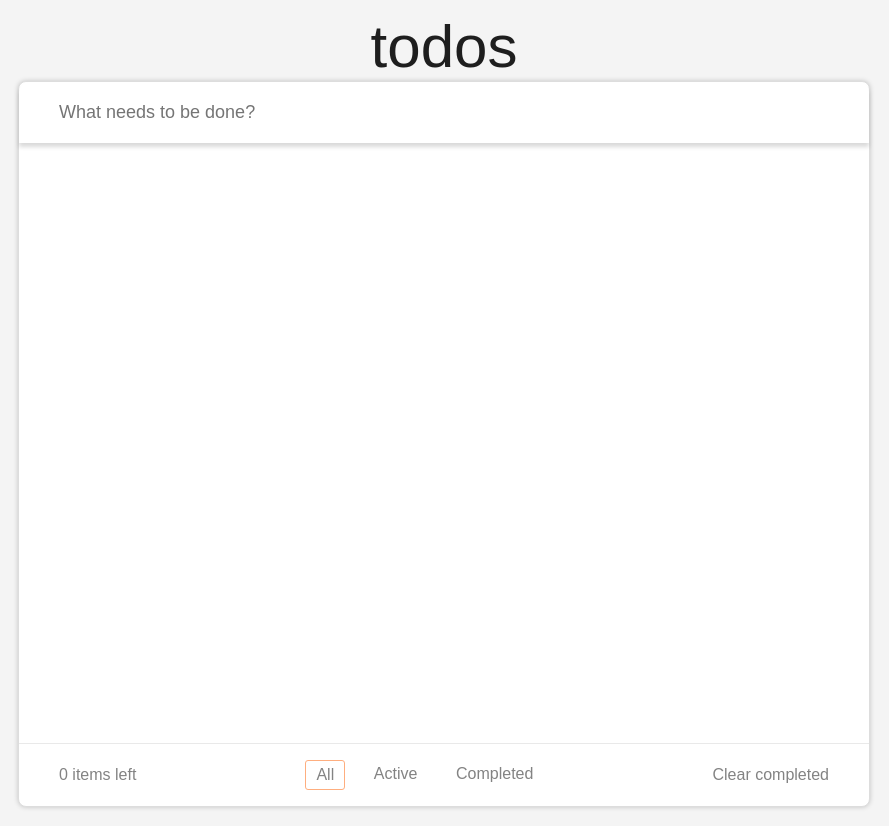
Test: TodoApp › Переключение фильтров
Type "Новая задача" into the field with placeholder "What needs to be done?" at point(444, 112), box [19,82,869,143]
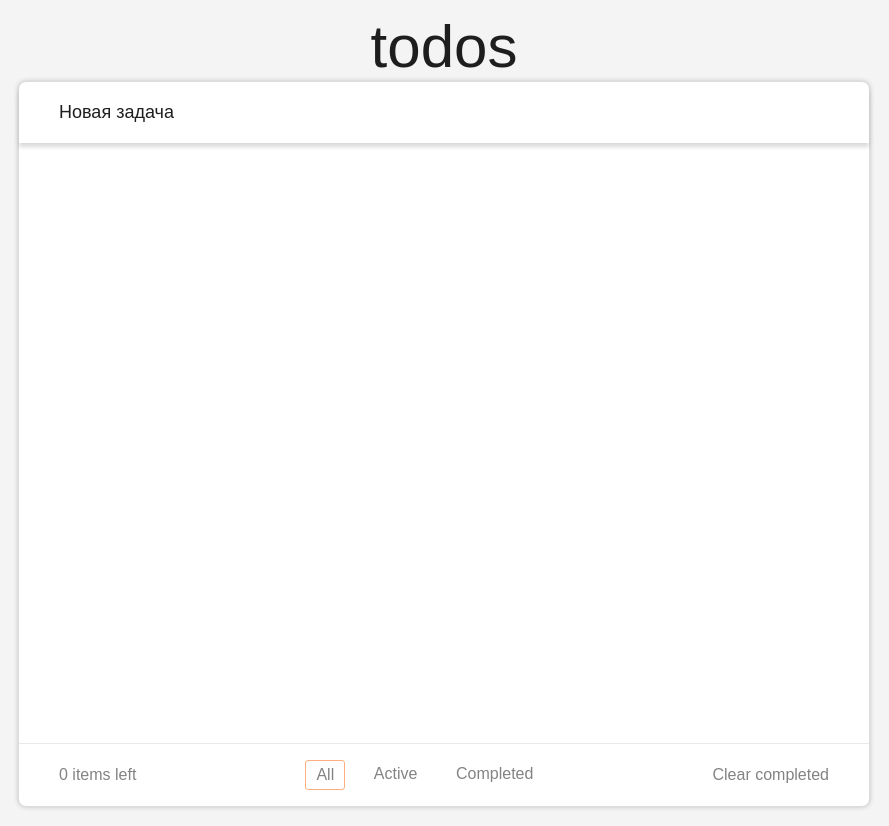
Press Enter in the field with placeholder "What needs to be done?", box [19,82,869,143]
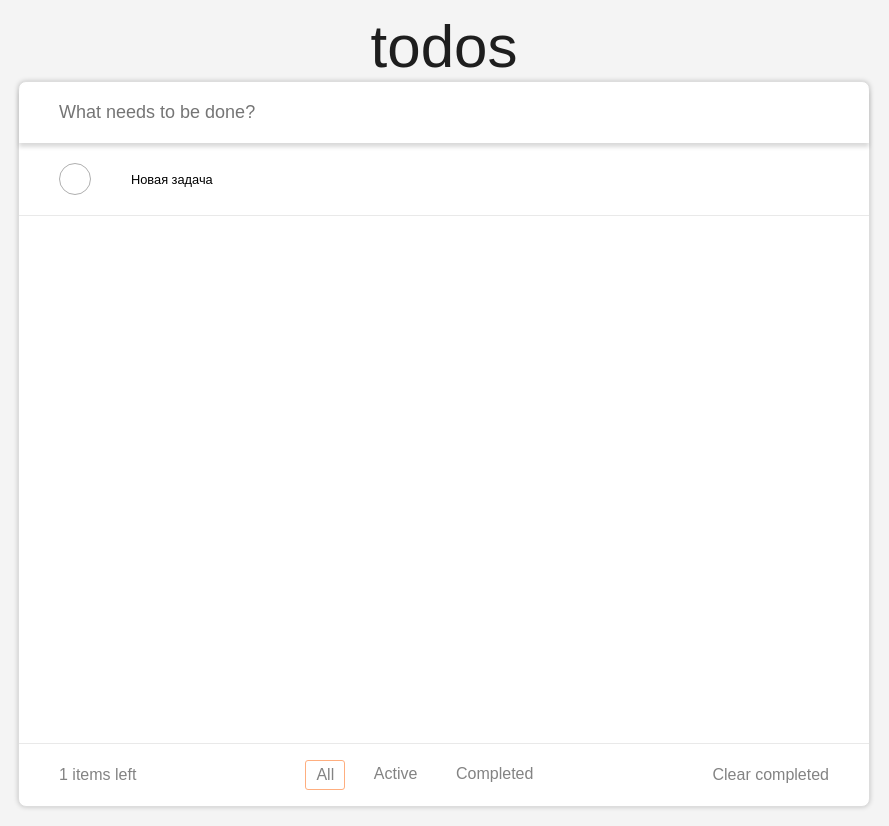
Expected: the text "Новая задача" is shown, [131,172,213,186]
Click the text "Active" at point(396, 774), box [374,765,417,782]
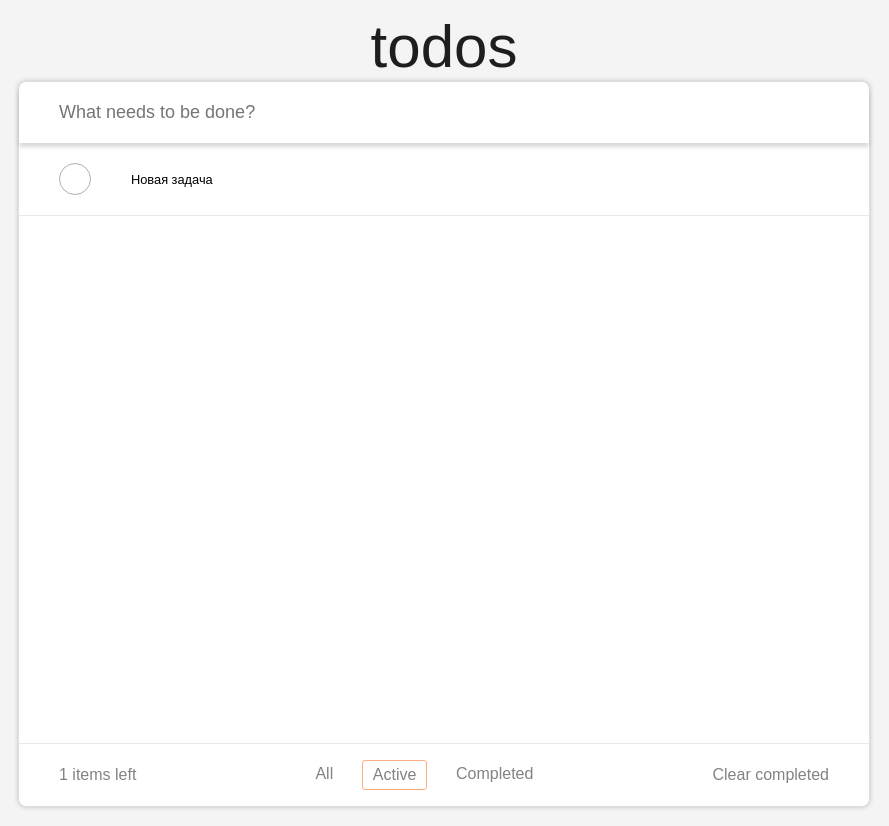
Expected: the text "Новая задача" is shown, [131,172,213,186]
Click the text "Completed" at point(495, 774), box [456,765,533,782]
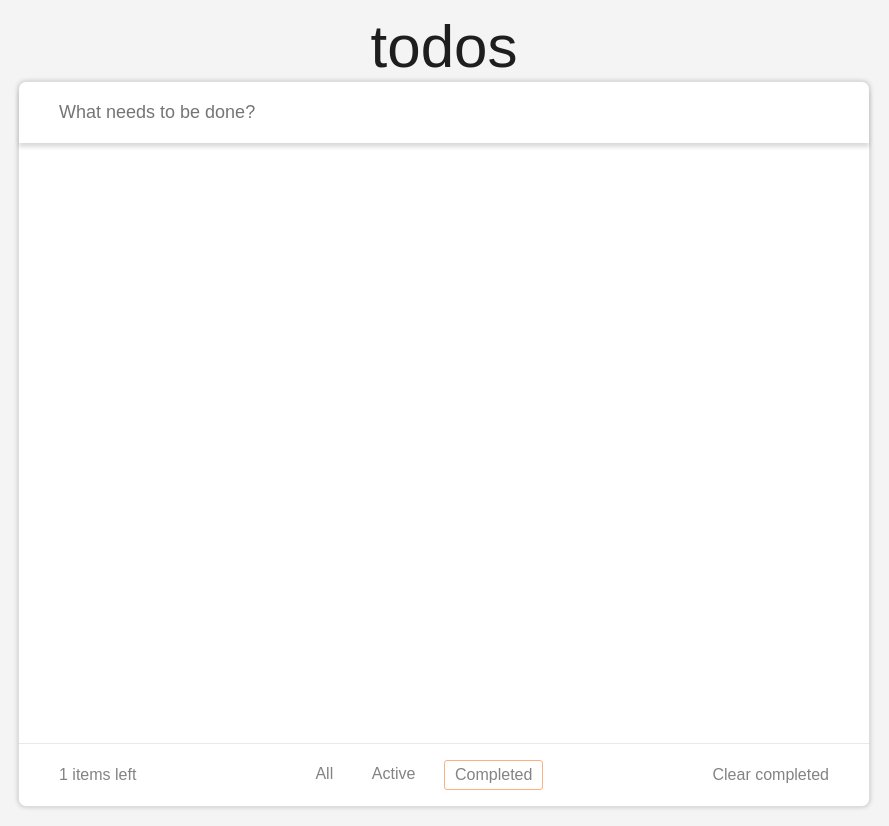
Expected: the text "Новая задача" is gone
Click the text "All" at point(324, 774), box [315,765,333,782]
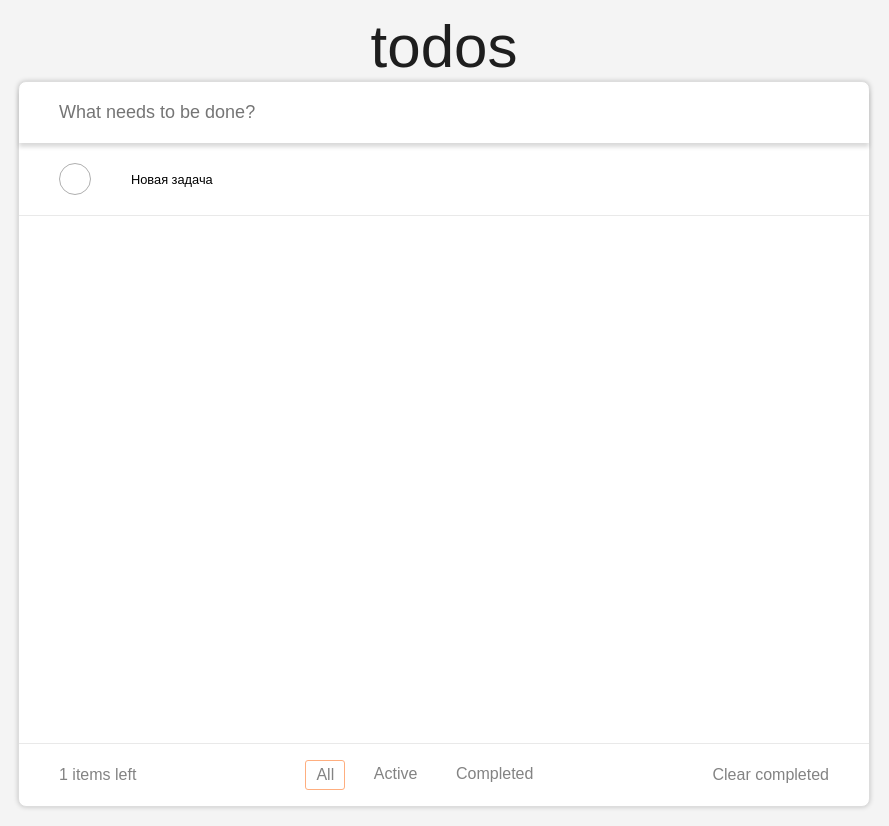
Expected: the text "Новая задача" is shown, [131,172,213,186]
